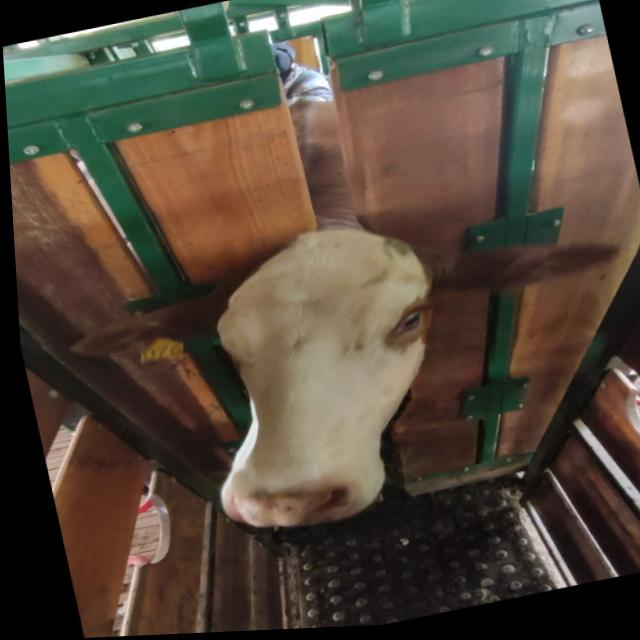cowFace: (173, 213, 467, 544)
